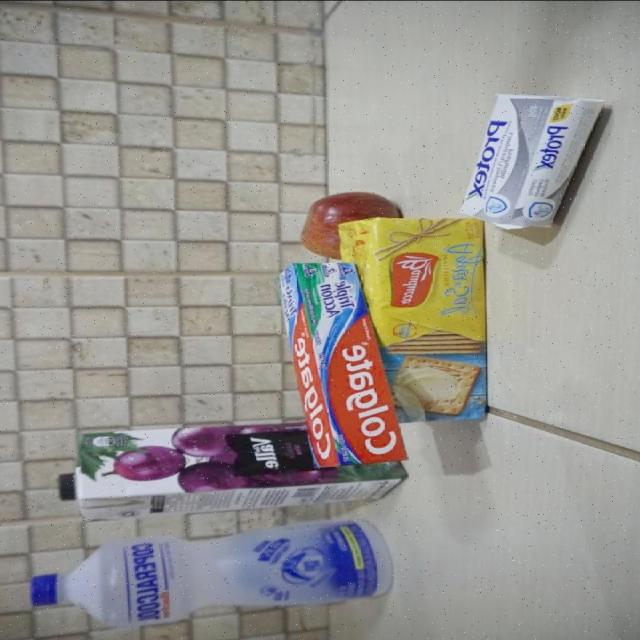AlcoholBottle: (31, 519, 398, 626)
Apple: (298, 190, 408, 263)
Cracker: (336, 216, 494, 426)
Soap: (455, 90, 609, 231)
Toothpaste: (271, 263, 410, 468)
